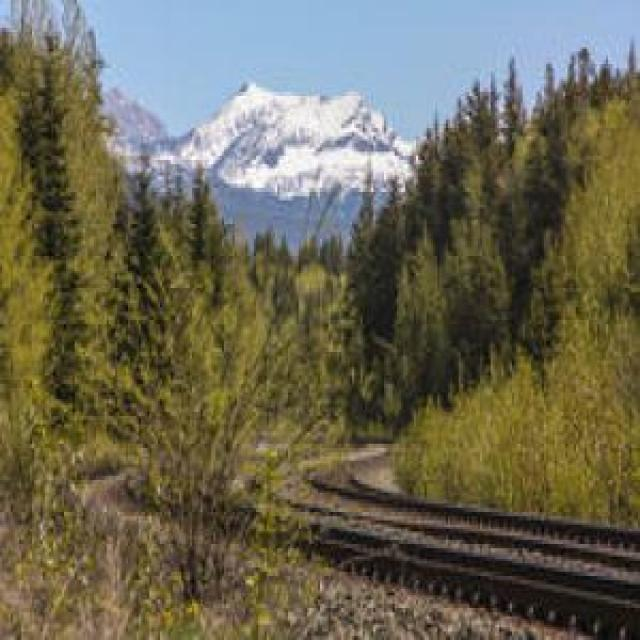rail: (112, 437, 639, 636)
